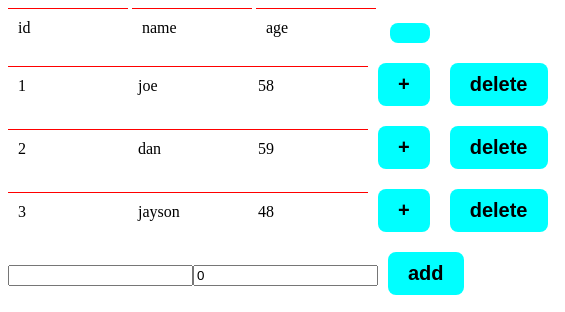
Scenario: increment user age
This screenshot has width=565, height=312.
Step 1. Click the button with test id "increment-2" → (404, 148), box 378,126 -> 430,169
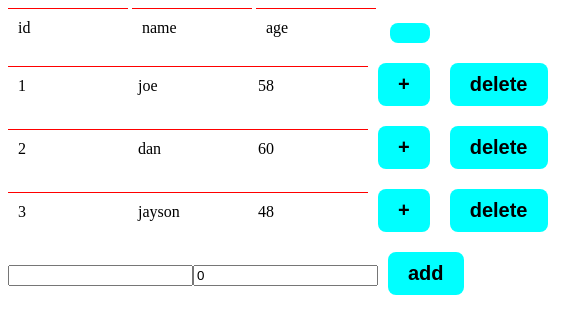
Expected: the text with test id "age-2" reads "60", 258,140 -> 274,157
